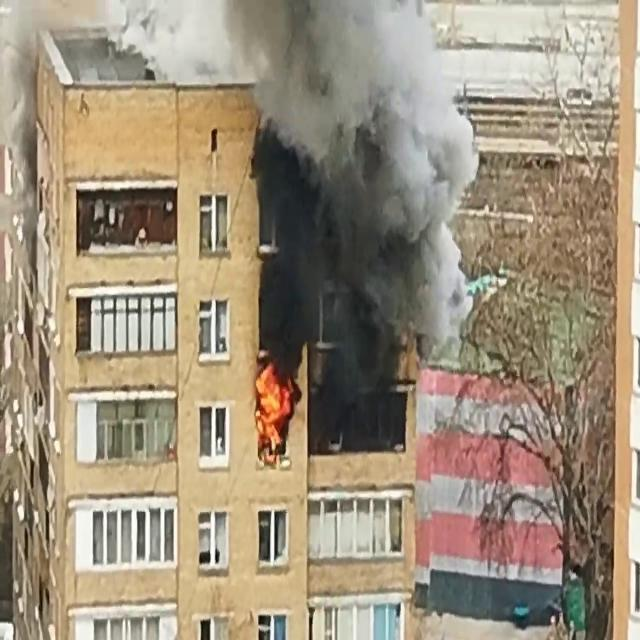Fire: (252, 355, 294, 457)
Smoke: (231, 0, 485, 393)
